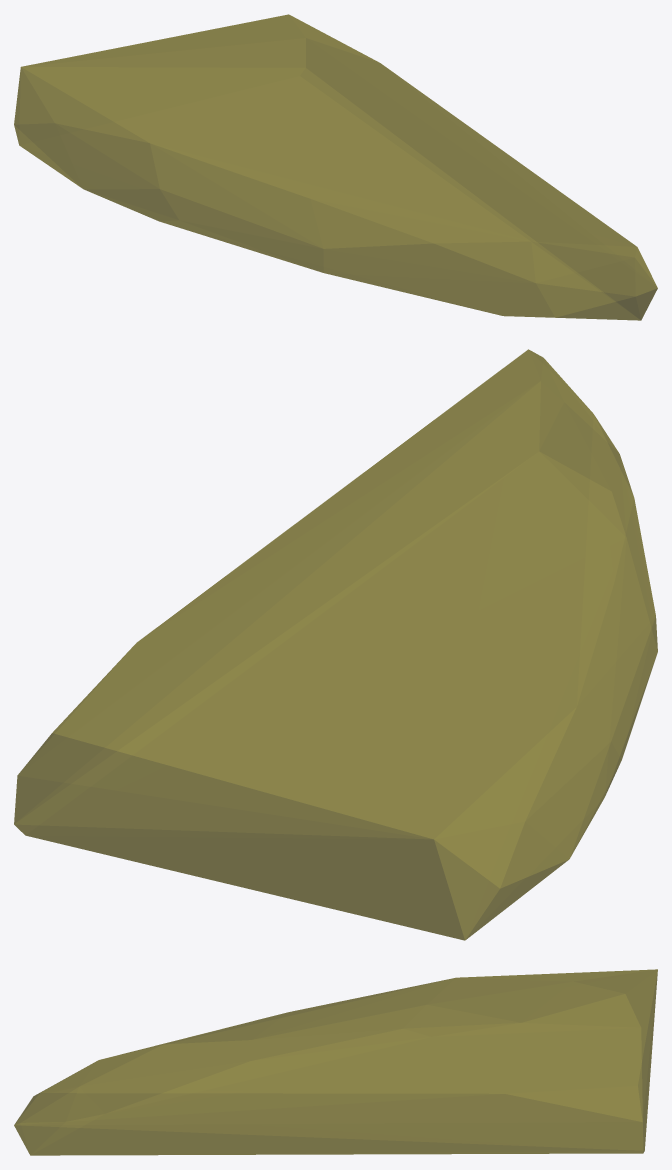
3 renders of one model, top to bottom at view 1: azimuth 30°, elevation 25°; view 2: azimuth 150°, elevation 25°; view 3: azimuth 270°, elevation 25°, orthographic. The views are drawn at different scales.
Visible parts, largest first — view 1: Shape_IndexedFaceSet.132_Shape_IndexedFaceSet.16599; view 2: Shape_IndexedFaceSet.132_Shape_IndexedFaceSet.16599; view 3: Shape_IndexedFaceSet.132_Shape_IndexedFaceSet.16599.
Boxes of the visible parts, x1,y1,x2,y2 form: Shape_IndexedFaceSet.132_Shape_IndexedFaceSet.16599: (14, 14, 657, 320); Shape_IndexedFaceSet.132_Shape_IndexedFaceSet.16599: (14, 349, 657, 940); Shape_IndexedFaceSet.132_Shape_IndexedFaceSet.16599: (14, 969, 657, 1155).
Bounding box in the file's own units: 0.199 × 0.0438 × 0.394.
